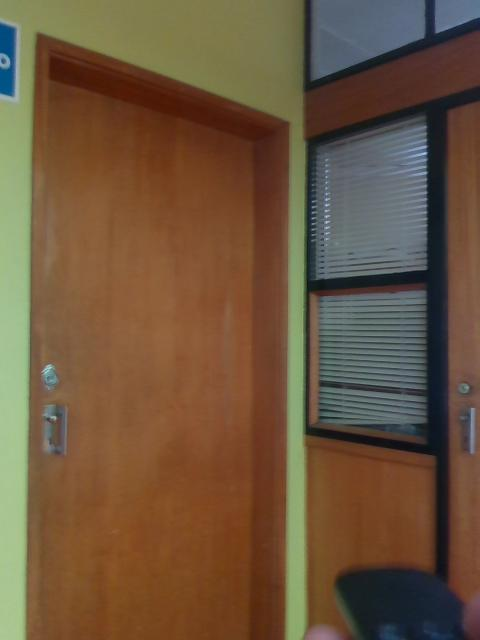closed_door: (26, 31, 291, 639)
